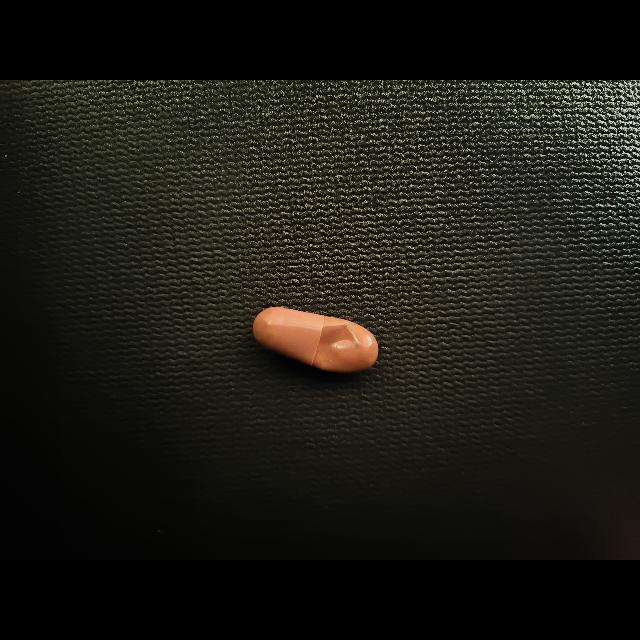Defective Capsule: (314, 324, 362, 370)
